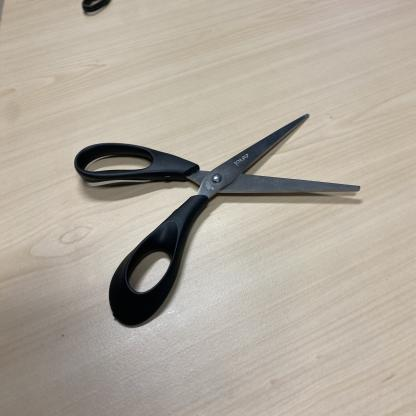scissors: (73, 110, 359, 325), (84, 0, 181, 14)
